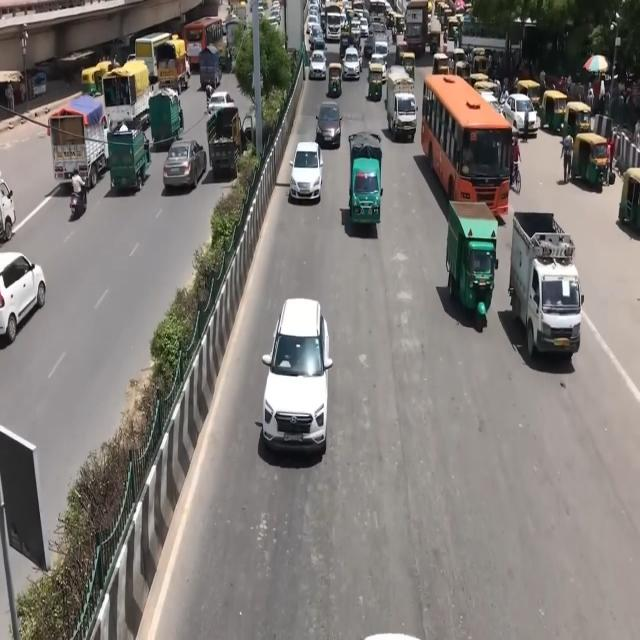auto: (570, 132, 610, 192), (618, 166, 640, 233), (562, 101, 592, 143), (540, 89, 568, 133), (81, 61, 113, 98), (197, 44, 222, 91), (516, 79, 543, 113), (366, 62, 386, 100), (327, 62, 343, 98), (446, 15, 462, 49), (400, 51, 416, 83), (468, 72, 491, 94), (471, 47, 488, 76), (452, 47, 468, 76), (432, 53, 450, 77)
bike-auto: (71, 168, 86, 212), (511, 137, 521, 184), (206, 88, 212, 111)
